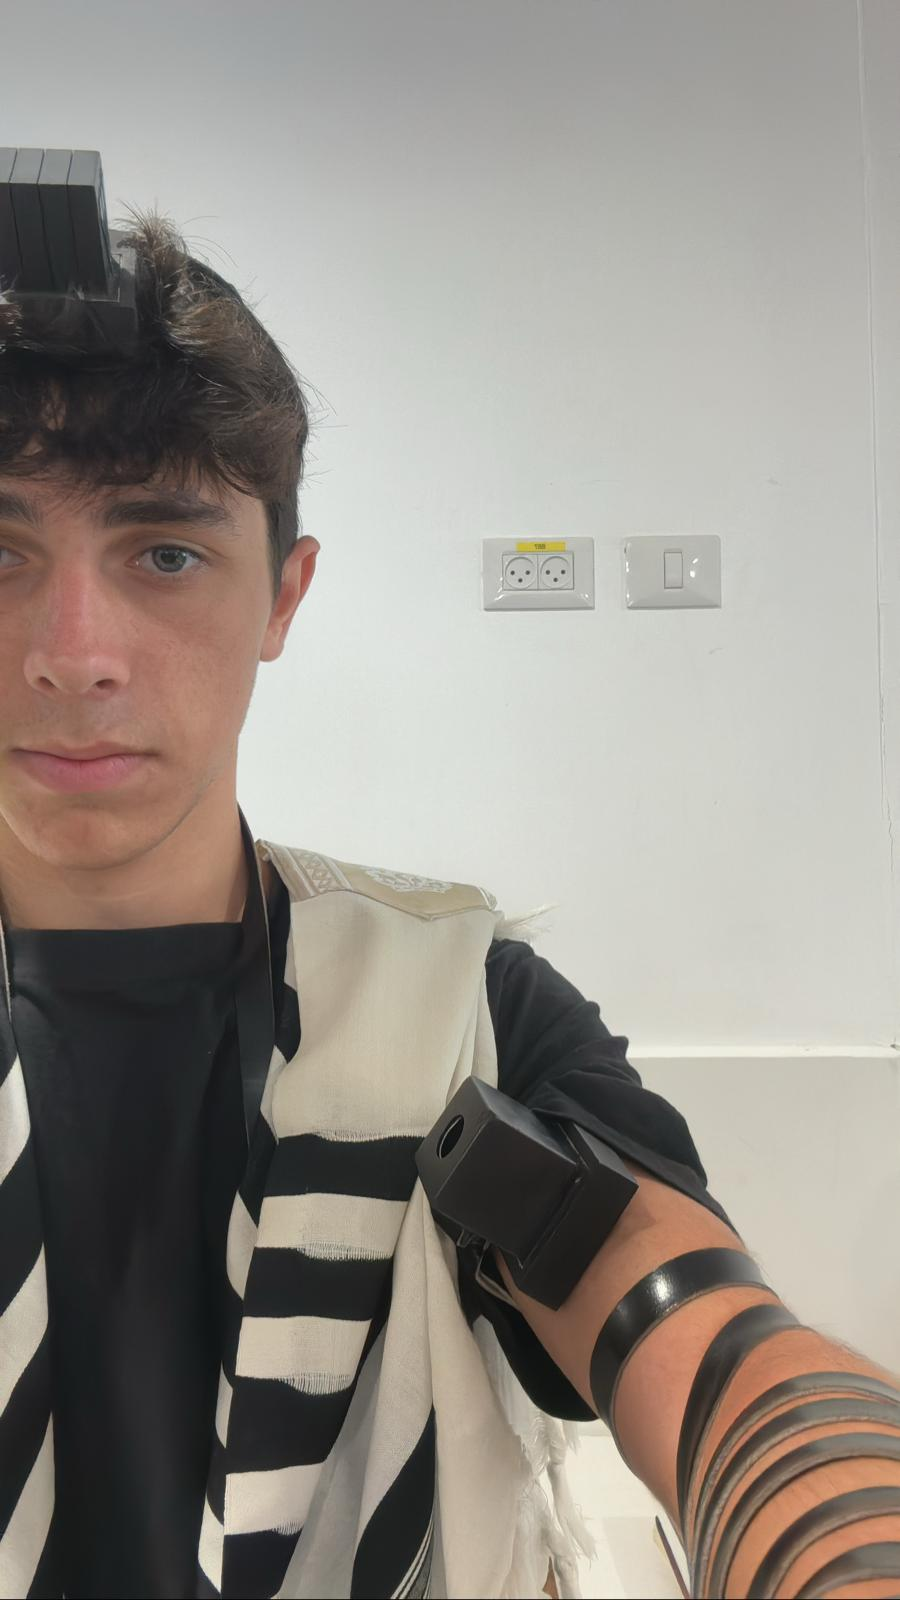tefillin: (412, 1075, 640, 1311), (0, 143, 143, 362)
